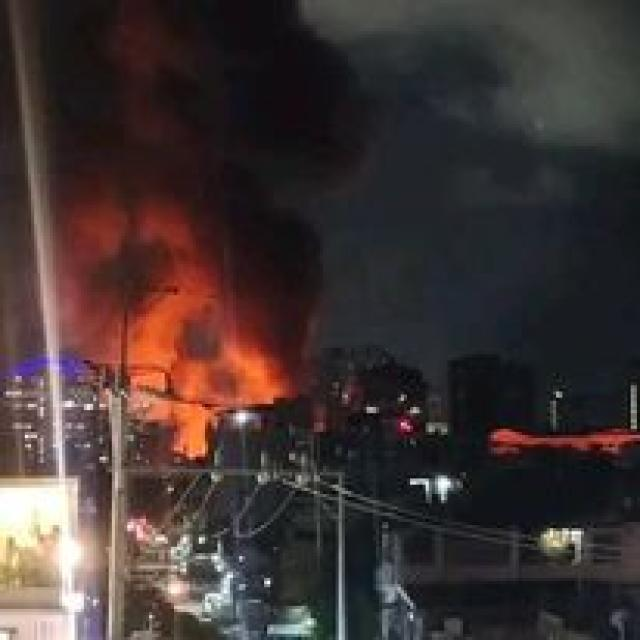Fire: (77, 220, 281, 418)
Smoke: (53, 3, 360, 367)
